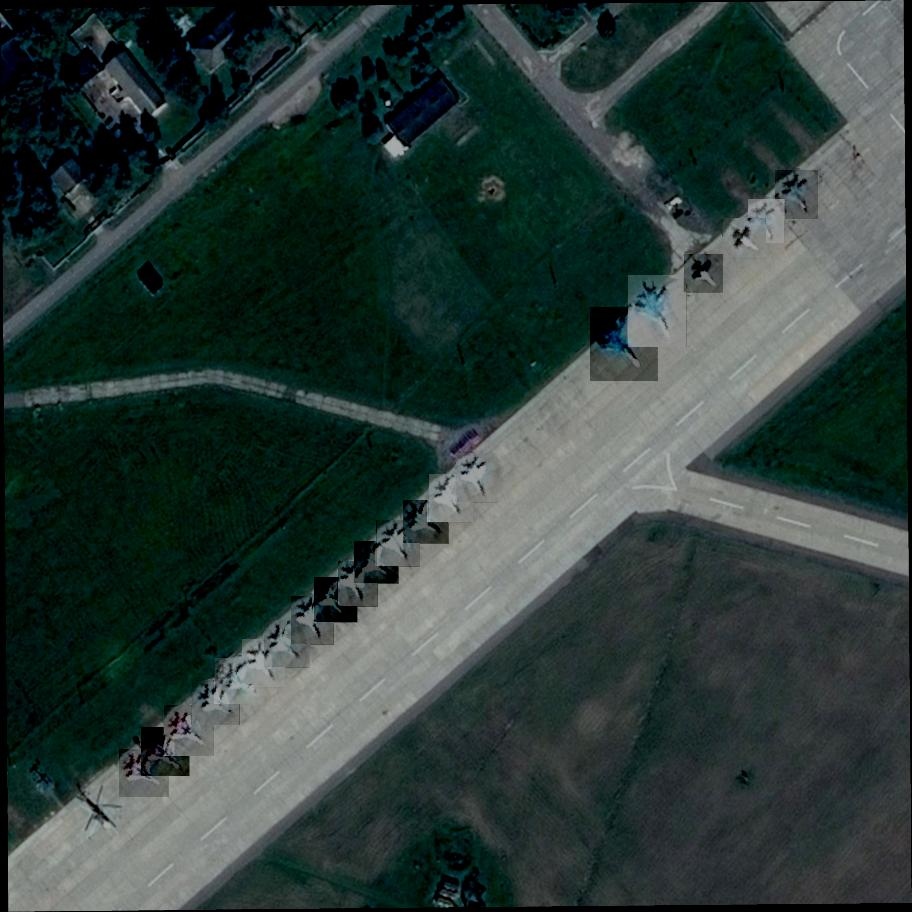plane: (590, 307, 658, 382), (628, 275, 688, 347), (163, 705, 217, 756), (142, 728, 193, 778), (120, 749, 171, 797), (215, 658, 267, 705), (264, 620, 312, 668), (775, 170, 822, 219), (429, 475, 475, 524), (193, 679, 241, 725), (404, 500, 452, 545), (242, 639, 286, 688), (456, 454, 500, 503), (378, 520, 423, 567), (292, 597, 335, 646), (314, 578, 359, 624), (354, 542, 401, 586), (339, 560, 379, 607), (723, 218, 767, 260), (748, 199, 788, 243), (685, 255, 725, 294)
